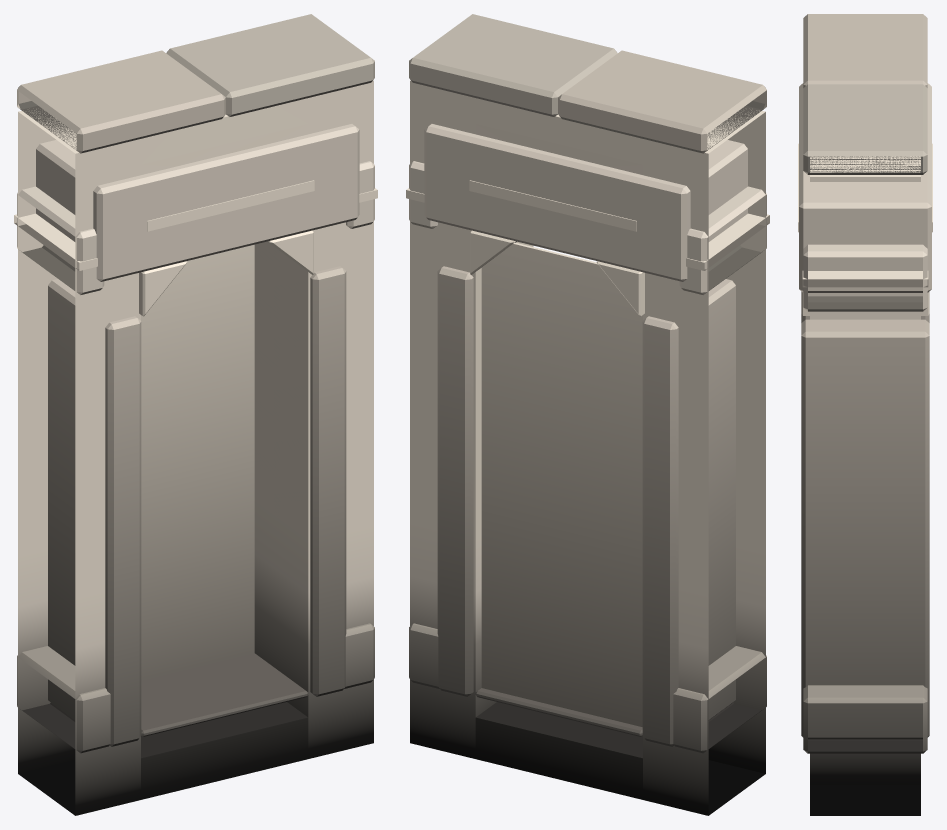
File: SM_VKI_Wall_Dwarf_Passage_150_Full.fbx
3 renders of one model, left to right at view 1: azimuth 30°, elevation 25°; view 2: azimuth 150°, elevation 25°; view 3: azimuth 270°, elevation 25°, orthographic. The views are drawn at different scales.
Visible parts, largest first — view 1: SM_VKI_Wall_Dwarf_Passage_150_Full.001; view 2: SM_VKI_Wall_Dwarf_Passage_150_Full.001; view 3: SM_VKI_Wall_Dwarf_Passage_150_Full.001.
Part boxes in pixels (x1=…): SM_VKI_Wall_Dwarf_Passage_150_Full.001: x1=14, y1=14, x2=377, y2=815; SM_VKI_Wall_Dwarf_Passage_150_Full.001: x1=406, y1=14, x2=769, y2=815; SM_VKI_Wall_Dwarf_Passage_150_Full.001: x1=798, y1=14, x2=932, y2=815.
Bounding box in the file's own units: 1.5 × 3.3 × 0.608.
